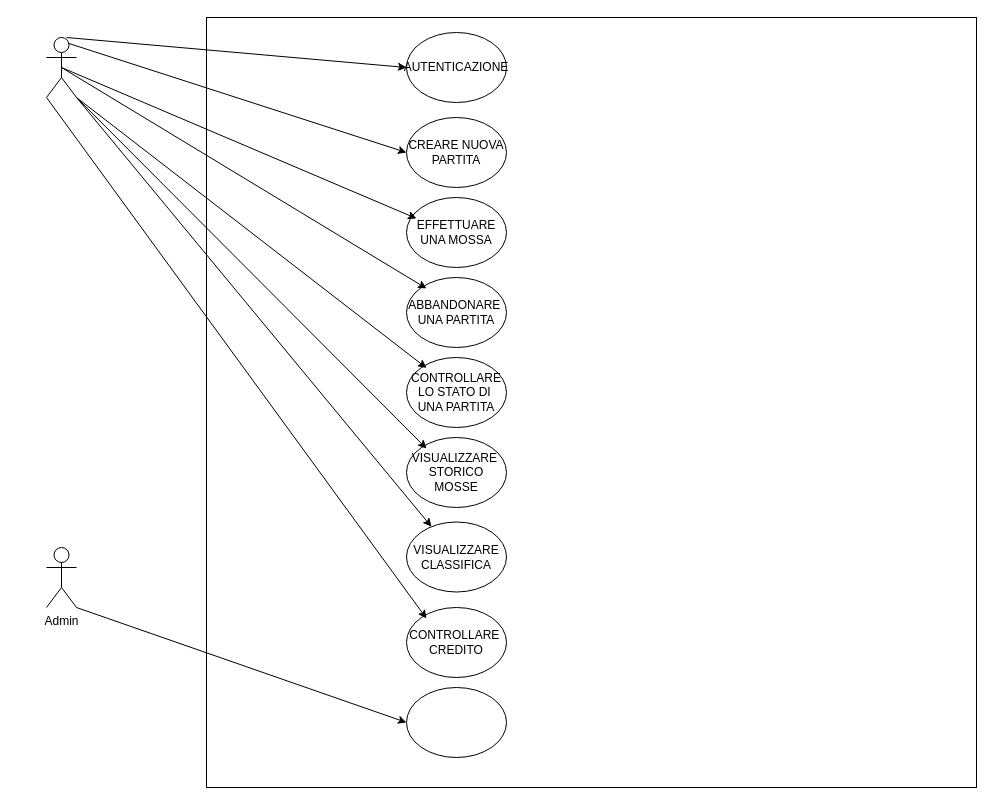
This 994x805 diagram has some shape labels left out. The shapes that lost their labels are listed below. From the top down, each one's centre as x and y in pixels, then its label:
the point at 61,67: Utente registrato
the point at 456,722: RICARICARE CREDITO
